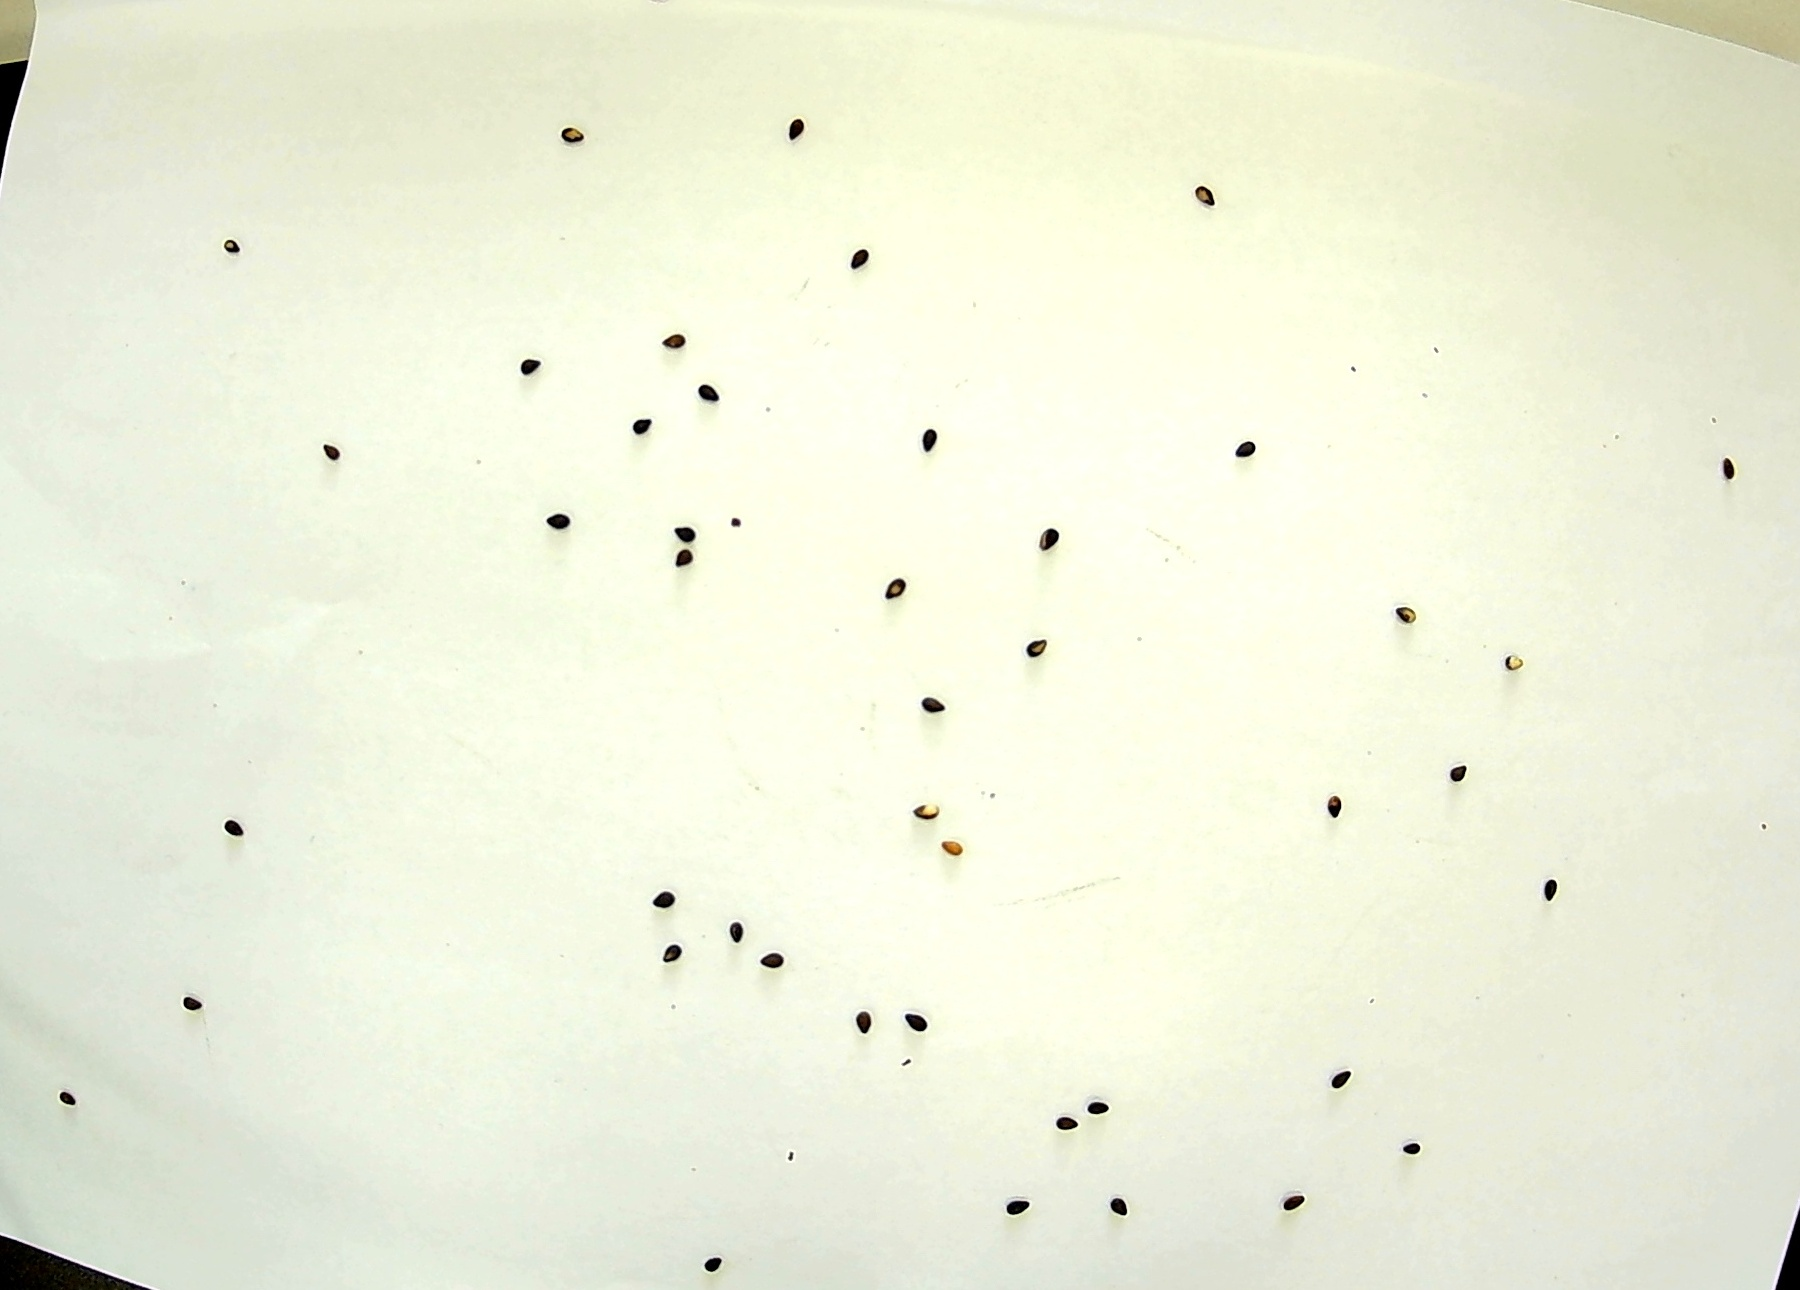sesami: (897, 1000, 936, 1035), (851, 1002, 890, 1037), (760, 949, 800, 984), (726, 914, 765, 949), (643, 887, 682, 921), (205, 810, 244, 845), (50, 1085, 89, 1120), (1532, 877, 1571, 912), (1496, 646, 1535, 681), (1707, 447, 1746, 482), (1319, 785, 1358, 820), (933, 833, 973, 868), (911, 794, 950, 829), (1031, 519, 1070, 554), (876, 577, 915, 611), (664, 542, 703, 577), (624, 403, 663, 438), (553, 107, 592, 142), (314, 433, 353, 468), (213, 230, 253, 265), (653, 938, 692, 972), (176, 983, 215, 1016), (695, 1245, 734, 1279), (1003, 1189, 1042, 1223), (1095, 1189, 1134, 1223), (1273, 1188, 1312, 1222), (1400, 1128, 1439, 1162), (1326, 1061, 1365, 1095), (1443, 758, 1482, 792), (1381, 598, 1420, 631), (908, 685, 947, 719), (1019, 635, 1058, 669), (915, 423, 954, 457), (677, 515, 716, 549), (534, 497, 573, 531), (693, 378, 733, 412), (839, 243, 878, 276), (780, 110, 819, 144), (512, 349, 551, 383), (1231, 434, 1268, 468), (1185, 173, 1222, 207), (652, 327, 689, 360)
